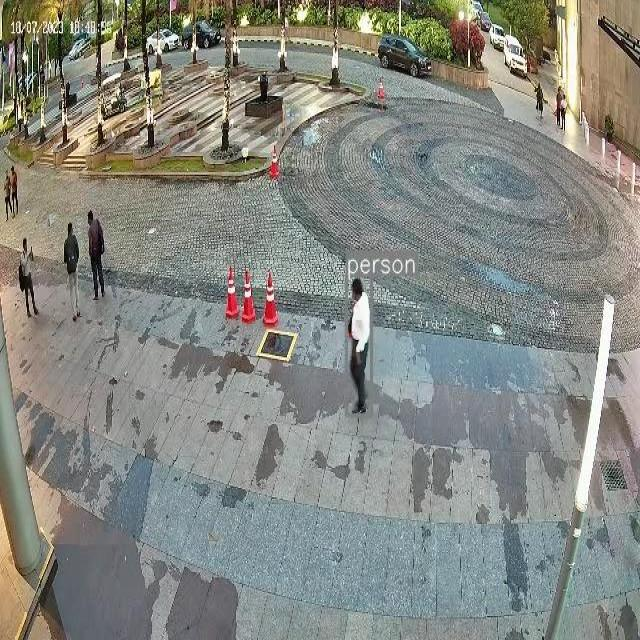person: (349, 277, 373, 412), (84, 211, 112, 301), (14, 239, 38, 317), (64, 223, 82, 321), (11, 164, 22, 215), (2, 166, 11, 222), (533, 84, 546, 119), (560, 93, 570, 132), (552, 81, 561, 124)
